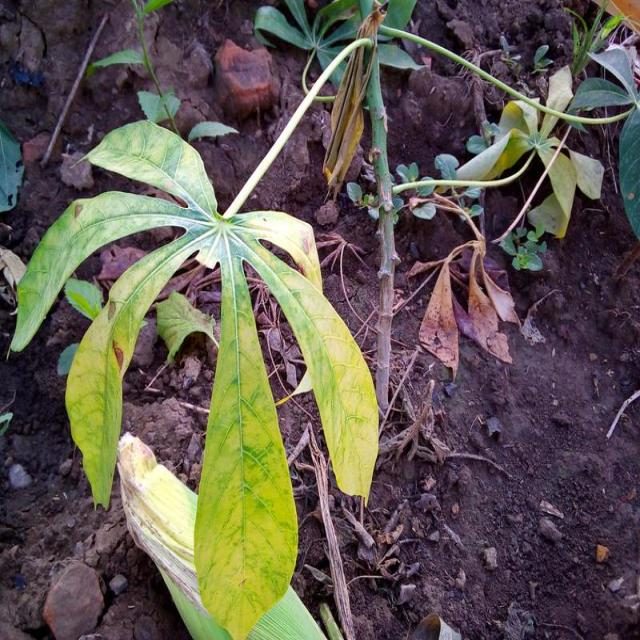cassava leaf: (8, 115, 380, 638), (114, 430, 328, 639), (191, 229, 299, 637)
